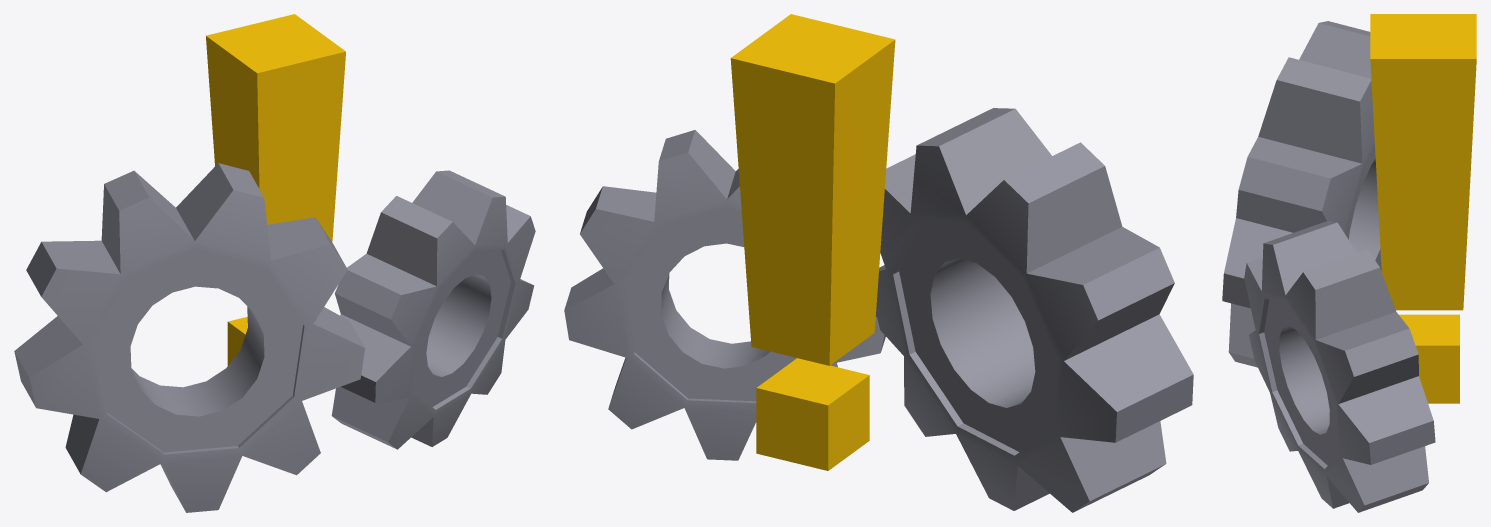
Rendered from Gear.fbx.
3 views of the same model, side by side, from view 1: azimuth 30°, elevation 25°; view 2: azimuth 150°, elevation 25°; view 3: azimuth 270°, elevation 25° (orthographic). The views are drawn at different scales.
Parts seen in each view (by area): view 1: GearWheel; view 2: GearWheel; view 3: GearWheel.
Part boxes in pixels (box(x1,y1,x2,y2)): GearWheel: box(14, 14, 535, 512); GearWheel: box(564, 14, 1193, 512); GearWheel: box(1222, 14, 1476, 512).
Size of the model in its own units: 1.38 by 1 by 0.5673.
